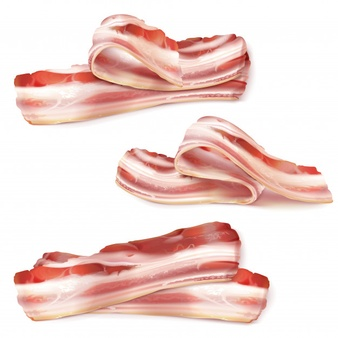bacon: (5, 23, 273, 123), (10, 230, 275, 329), (106, 115, 338, 210)
